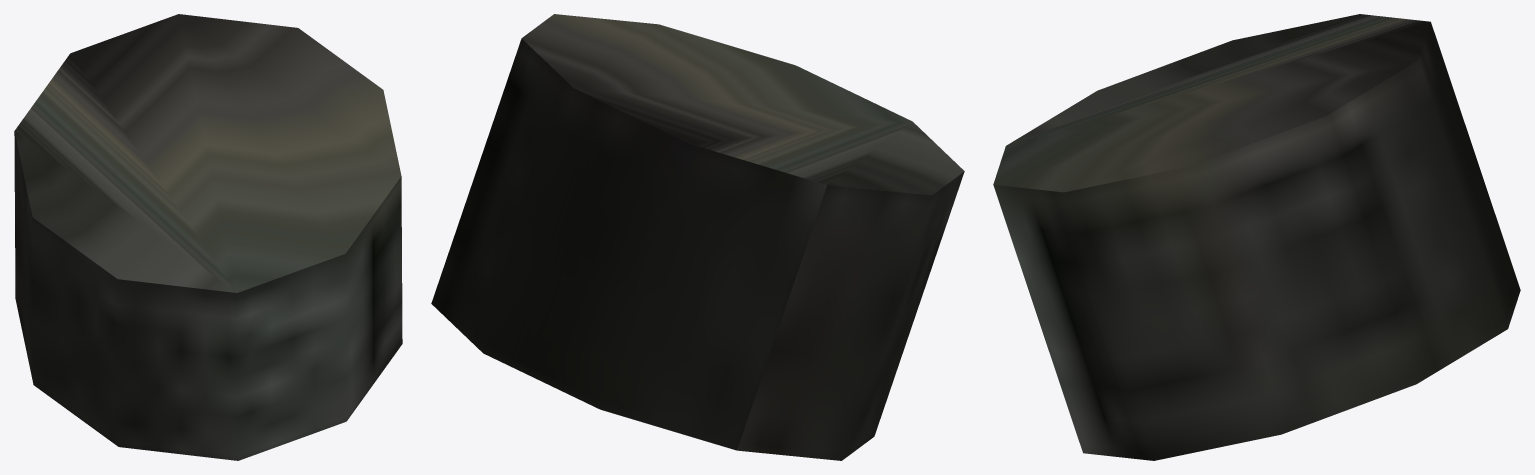
The model's file is prop_flak88_nm_piece3.glb.
3 views of the same model, side by side, from view 1: azimuth 30°, elevation 25°; view 2: azimuth 150°, elevation 25°; view 3: azimuth 270°, elevation 25° (orthographic). The views are drawn at different scales.
Size of the model in its own units: 9.45 by 8.02 by 9.64.
1 material, 1 textured.
